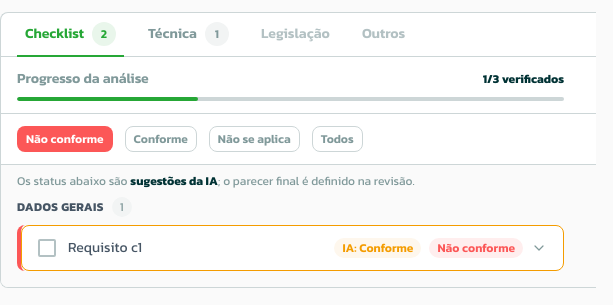
it: PainelRevisao › filtro por status (RF-009) › mantém o filtro ao trocar de aba
Click the button "Conforme" at [161, 139], box [125, 126, 197, 152]
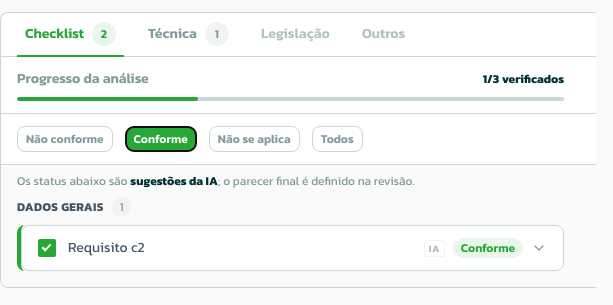
Click the tab "Técnica 1" at [188, 35], box [140, 13, 237, 57]
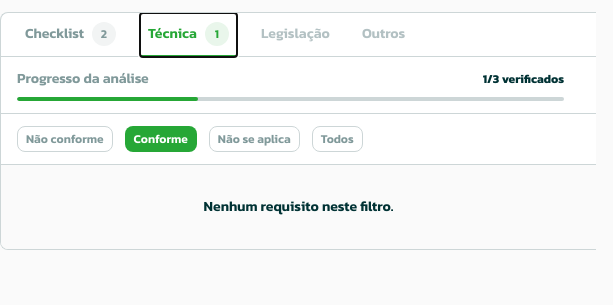
Result: the text "Nenhum requisito neste filtro." is shown at [204, 196, 394, 217]
